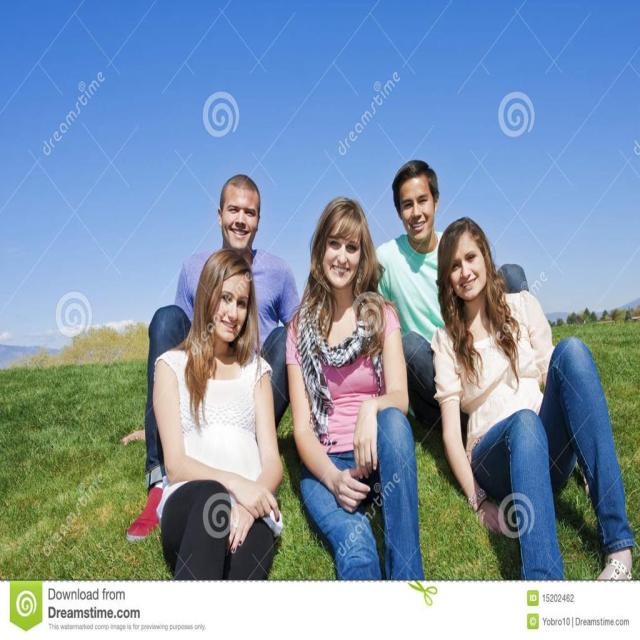Face: (446, 222, 499, 309), (206, 269, 255, 358), (318, 212, 368, 295), (398, 176, 446, 244), (221, 180, 263, 254)
